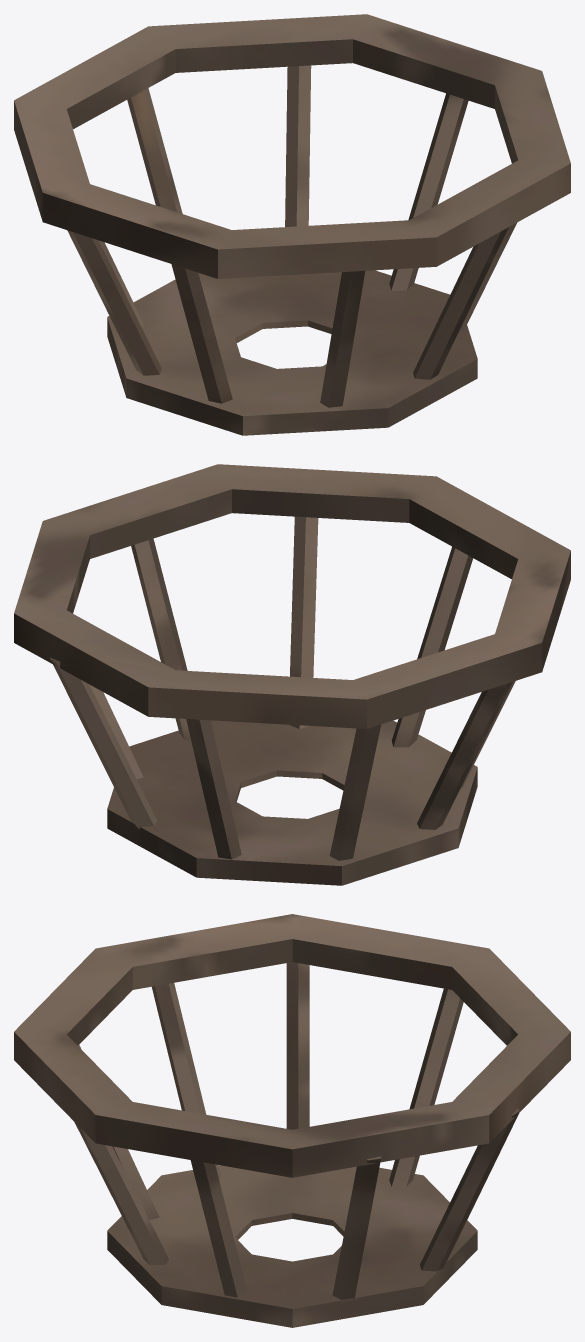
The model's file is M_hune_6.fbx.
3 views of the same model, one above another, from view 1: azimuth 30°, elevation 25°; view 2: azimuth 150°, elevation 25°; view 3: azimuth 270°, elevation 25° (orthographic). The views are drawn at different scales.
Parts seen in each view (by area): view 1: polySurface277; view 2: polySurface277; view 3: polySurface277.
Part boxes in pixels (<box>): polySurface277: <box>14,14,570,435</box>; polySurface277: <box>14,464,570,885</box>; polySurface277: <box>14,914,570,1327</box>.
Size of the model in its own units: 208 by 89.81 by 208.
1 material, 1 textured.
